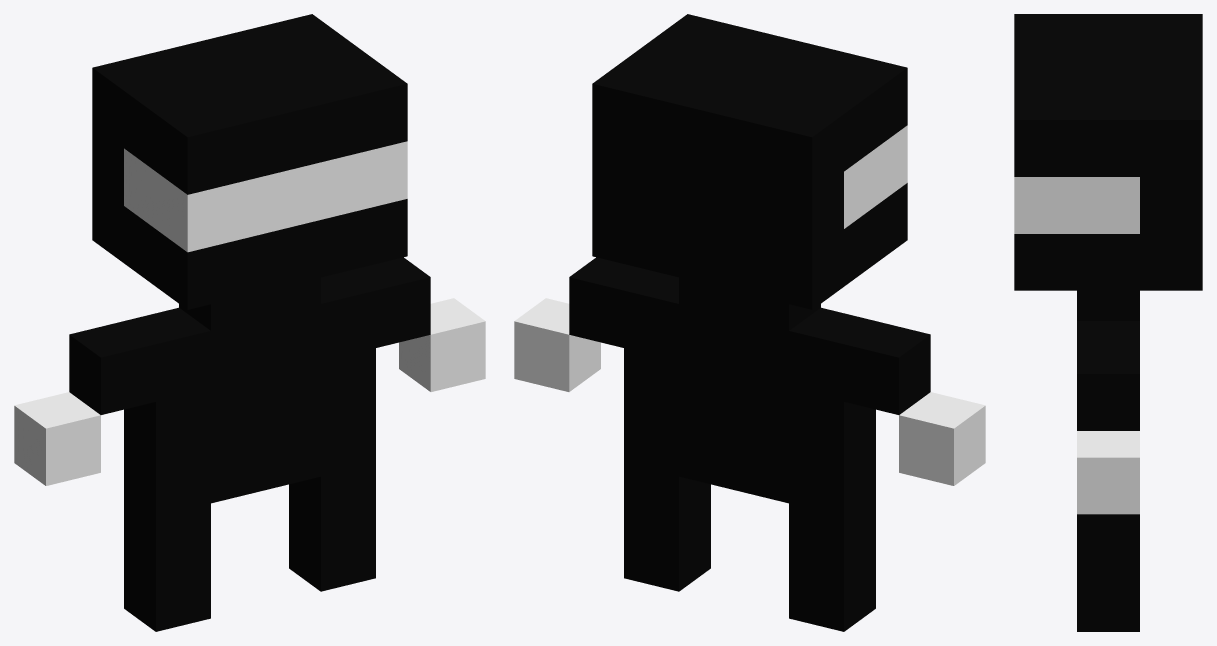
Rendered from GZEMO0.obj.
3 views of the same model, side by side, from view 1: azimuth 30°, elevation 25°; view 2: azimuth 150°, elevation 25°; view 3: azimuth 270°, elevation 25° (orthographic).
Bounding box in the file's own units: 8 × 9 × 3.
Materials: 1 (1 with a texture image).
